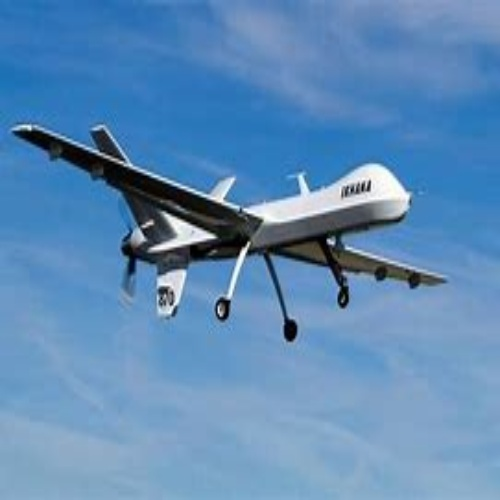uav: (10, 119, 452, 344)
